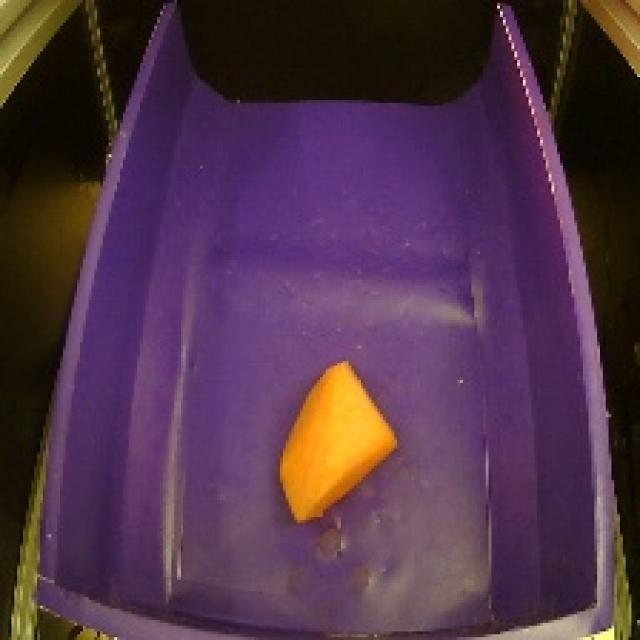carrots: (271, 351, 410, 535)
